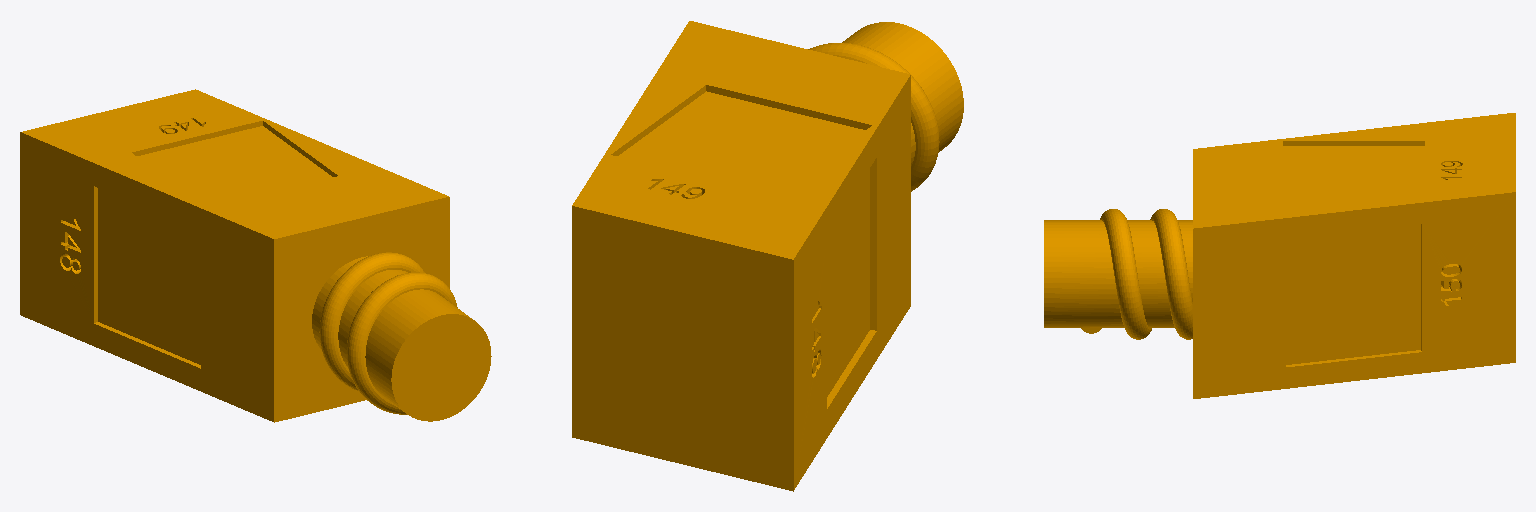
URDF robot description (stool_leg1):
<?xml version="1.0"?>
<robot name="stool_leg1">
    <link name="stool_leg1">
        <visual>
            <geometry>
                <mesh filename="../mesh/stool/stool_leg1.obj" scale="1 1 1"/>
            </geometry>
        </visual>
        <collision>
            <geometry>
                <mesh filename="../mesh/stool/stool_leg1.obj" scale="1 1 1"/>
            </geometry>
            <sdf resolution="512"/>
        </collision>
    </link>
</robot>

--- What the picture shows (computed from the rendered views, not written in the file) ---
The picture shows the robot from 3 angles, left to right: view 1: azimuth 30°, elevation 25°; view 2: azimuth 150°, elevation 25°; view 3: azimuth 270°, elevation 25°; orthographic projection.
Model stool_leg1 with 1 links and 0 joints (none), rooted at stool_leg1, posed all joints at 0.
Links seen in each view (by area): view 1: stool_leg1; view 2: stool_leg1; view 3: stool_leg1.
Link boxes in pixels (left/top/right/bottom): stool_leg1: left=20, top=89, right=491, bottom=422; stool_leg1: left=572, top=21, right=963, bottom=491; stool_leg1: left=1044, top=113, right=1515, bottom=398.
Size in the robot's own frame: 0.0511 by 0.0875 by 0.035 metres.
1 mesh visuals loaded from 1 distinct referenced files (1 OBJ).